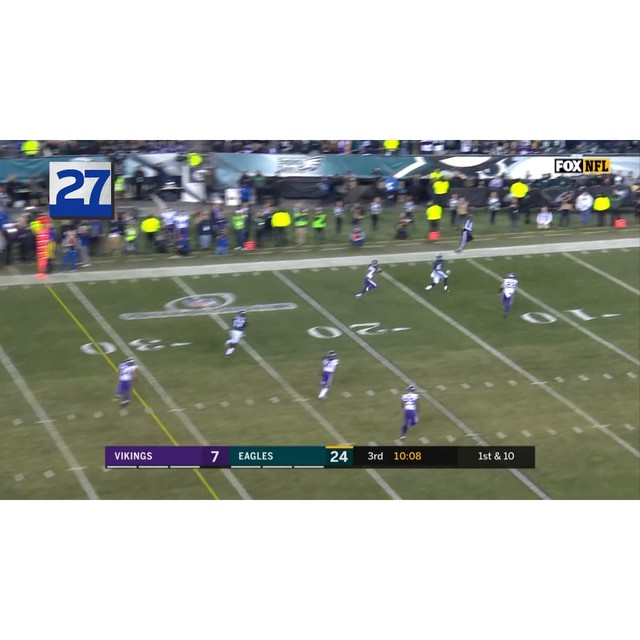american-football-player: (397, 385, 422, 441), (114, 356, 139, 410), (222, 308, 249, 358), (317, 350, 341, 400), (425, 252, 452, 293), (354, 259, 382, 298), (497, 271, 519, 319)
referee: (455, 214, 476, 254)
